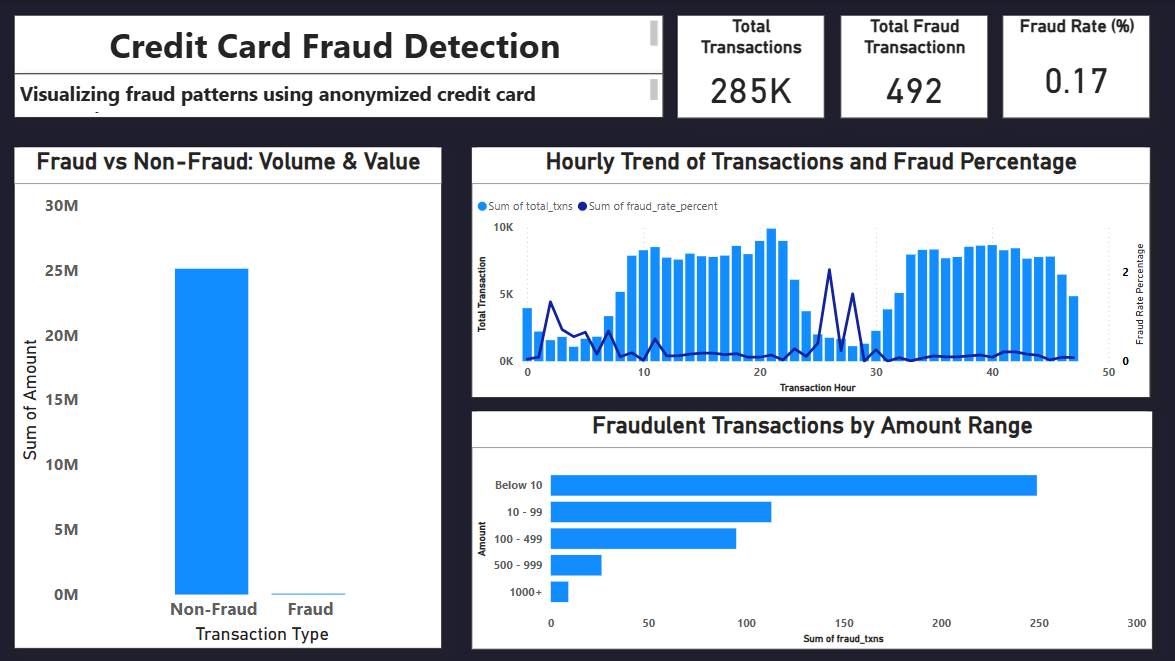

Layout of this report page (visuals, bound fields, positions):
{"tool":"powerbi","page":{"name":"Page 1","canvas":[1280,720],"ordinal":0},"visuals":[{"type":"lineClusteredColumnComboChart","title":"Fraud vs Non-Fraud: Volume & Value","fields":{"Category":["fraud_summary.Fraud Type"],"Y":["Sum(fraud_summary.total_amount)"]},"box":[16,160,464,544],"z":0},{"type":"lineClusteredColumnComboChart","title":"Hourly Trend of Transactions and Fraud Percentage","fields":{"Category":["fraud_by_hour.txn_hour"],"Y":["Sum(fraud_by_hour.total_txns)"],"Y2":["Sum(fraud_by_hour.fraud_rate_percent)"]},"box":[512,160,736,272],"z":1000},{"type":"barChart","title":"Fraudulent Transactions by Amount Range","fields":{"Category":["fraud_by_amount_bins.amount_bin"],"Y":["Sum(fraud_by_amount_bins.fraud_txns)"]},"box":[511.7,445,738.3,258.3],"z":2000},{"type":"textbox","box":[16,16,704,64],"z":3000},{"type":"textbox","box":[16,80,704,48],"z":4000},{"type":"card","title":"Total Transactions","fields":{"Values":["Sum(kpi_summary.total_txns)"]},"box":[736,16,160,112],"z":5000},{"type":"card","title":"Total Fraud Transactionn","fields":{"Values":["Sum(kpi_summary.total_frauds)"]},"box":[912,16,160,112],"z":6000},{"type":"card","title":"Fraud Rate (%)","fields":{"Values":["Sum(kpi_summary.fraud_rate)"]},"box":[1088,16,160,112],"z":7000}]}

Visuals, with their boxes in screenshot pixels (x1, y1, x2, y2), scaled from the page's 1280x720 canvas onto the 1175x661 screenshot:
"Fraud vs Non-Fraud: Volume & Value" lineClusteredColumnComboChart: x1=15 y1=147 x2=441 y2=646
"Hourly Trend of Transactions and Fraud Percentage" lineClusteredColumnComboChart: x1=470 y1=147 x2=1146 y2=397
"Fraudulent Transactions by Amount Range" barChart: x1=470 y1=409 x2=1147 y2=646
textbox: x1=15 y1=15 x2=661 y2=73
textbox: x1=15 y1=73 x2=661 y2=118
"Total Transactions" card: x1=676 y1=15 x2=822 y2=118
"Total Fraud Transactionn" card: x1=837 y1=15 x2=984 y2=118
"Fraud Rate (%)" card: x1=999 y1=15 x2=1146 y2=118
